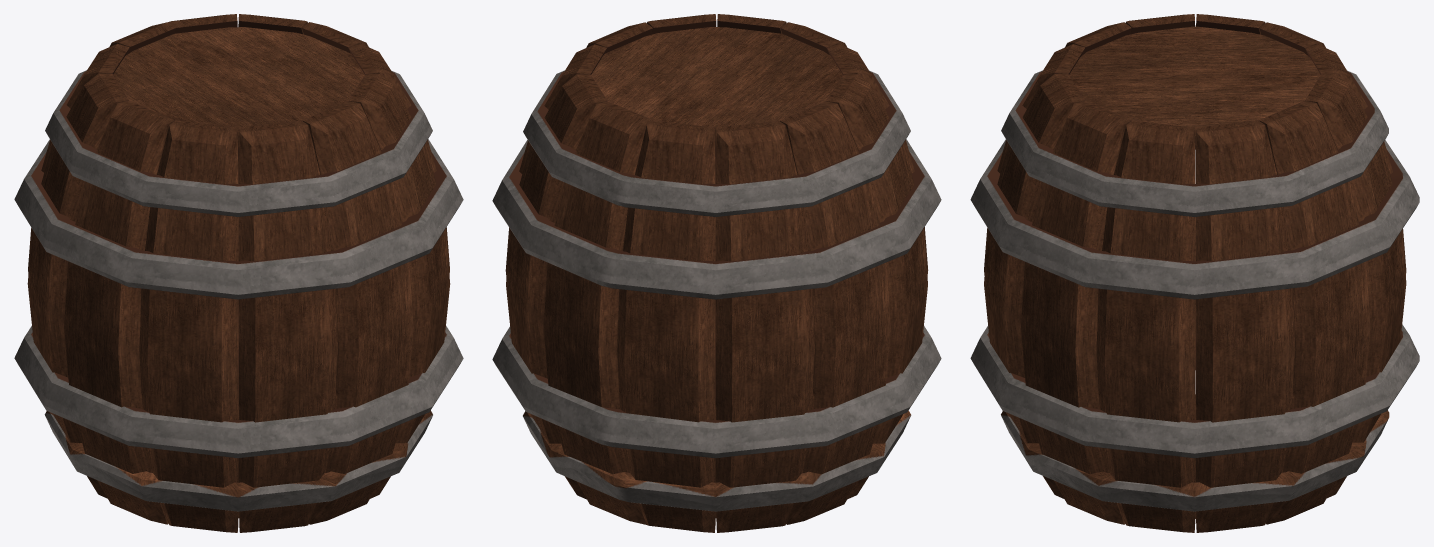
The model's file is barrel.fbx.
3 renders of one model, left to right at view 1: azimuth 30°, elevation 25°; view 2: azimuth 150°, elevation 25°; view 3: azimuth 270°, elevation 25°, orthographic.
Parts seen in each view (by area): view 1: barrel1; view 2: barrel1; view 3: barrel1.
Boxes of the visible parts, left/top/right/bottom form: barrel1: left=14, top=14, right=463, bottom=532; barrel1: left=492, top=14, right=941, bottom=532; barrel1: left=970, top=14, right=1419, bottom=532.
Size of the model in its own units: 118 by 116 by 118.
Materials: 2 (1 with a texture image).
